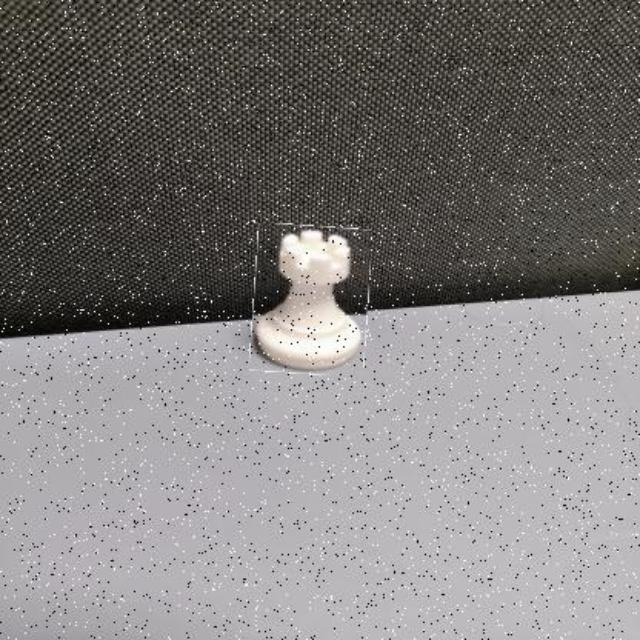white-rook: (252, 225, 370, 375)
